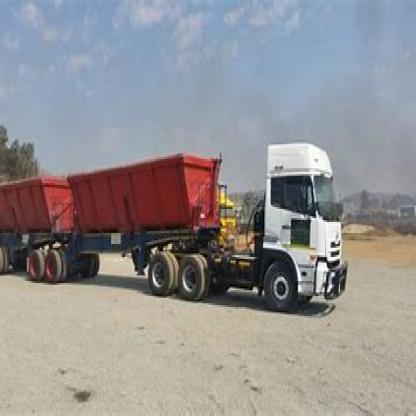dump_truck: (4, 126, 355, 327)
